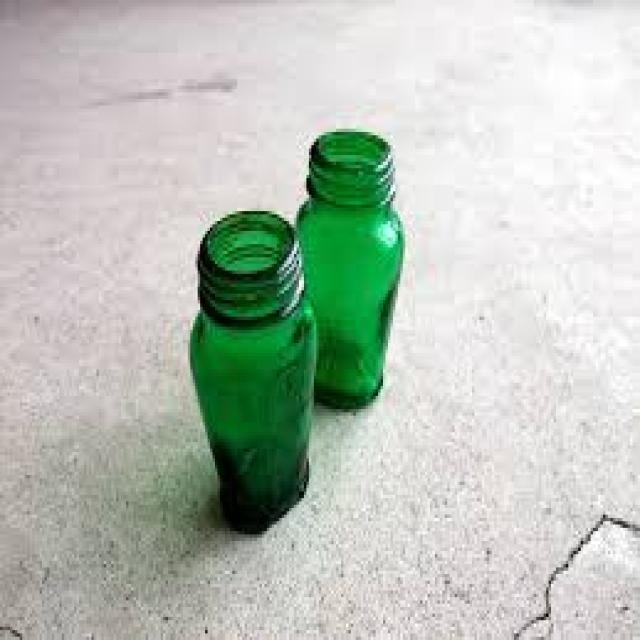Glass: (190, 206, 316, 535), (290, 125, 406, 409)
